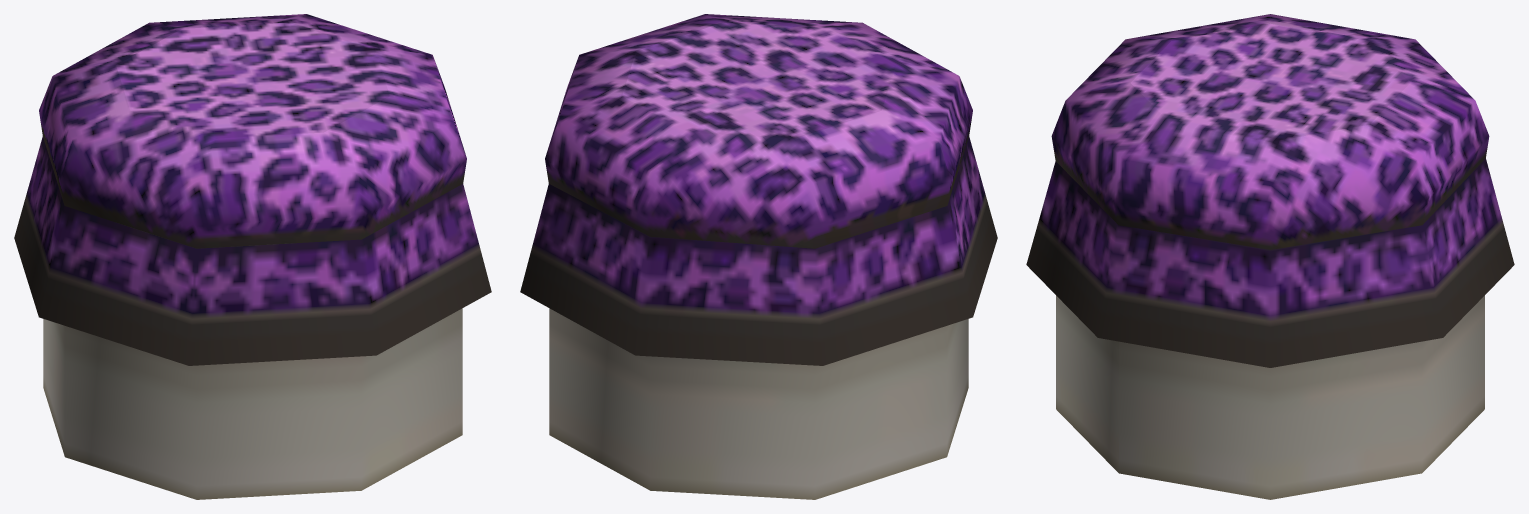
The model's file is furni_0200095_03.FBX.
3 views of the same model, side by side, from view 1: azimuth 30°, elevation 25°; view 2: azimuth 150°, elevation 25°; view 3: azimuth 270°, elevation 25° (orthographic).
Parts seen in each view (by area): view 1: furni_0200095_03; view 2: furni_0200095_03; view 3: furni_0200095_03.
Part boxes in pixels (x1,y1,x2,y2): furni_0200095_03: [14, 14, 491, 499]; furni_0200095_03: [520, 14, 997, 499]; furni_0200095_03: [1026, 14, 1514, 499].
Size of the model in its own units: 61 by 45 by 61.
Materials: 1 (1 with a texture image).
